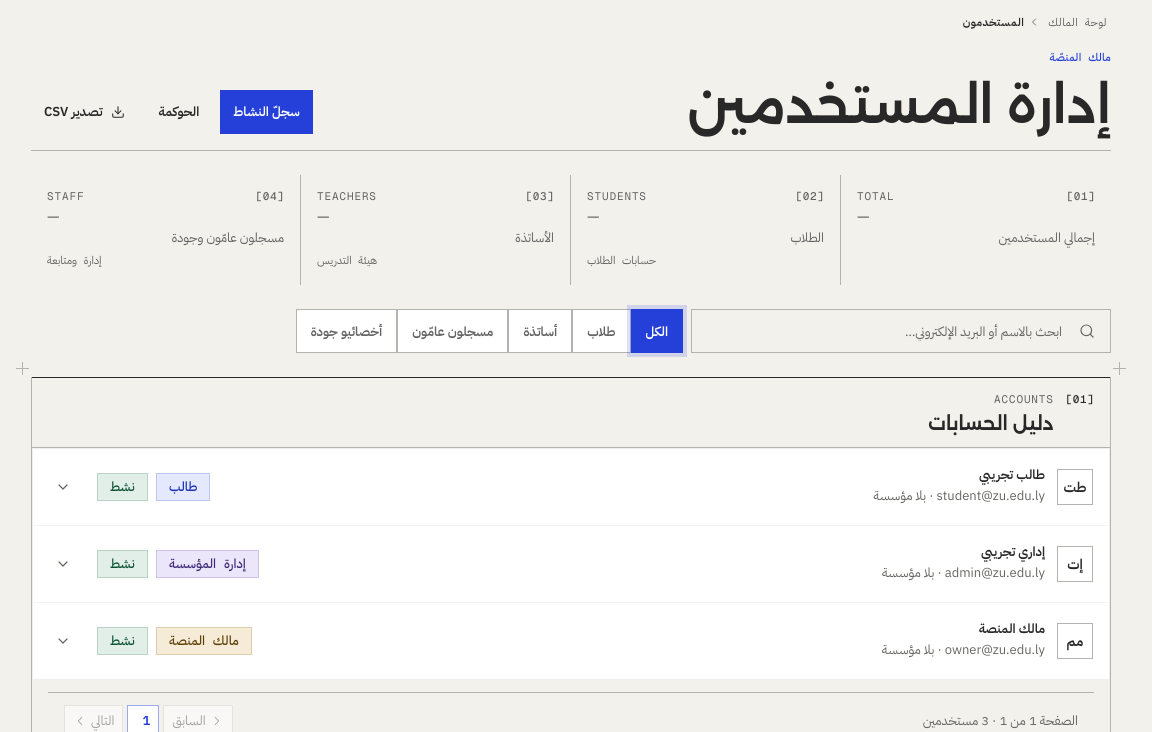
Test: OwnerUsersPage — role picker (r154e) › renders an OWNER row as read-only text (no select — owner role is not changeable here)
Click the button named "إجراءات مالك المنصة" at (63, 641), box [41,619,85,663]
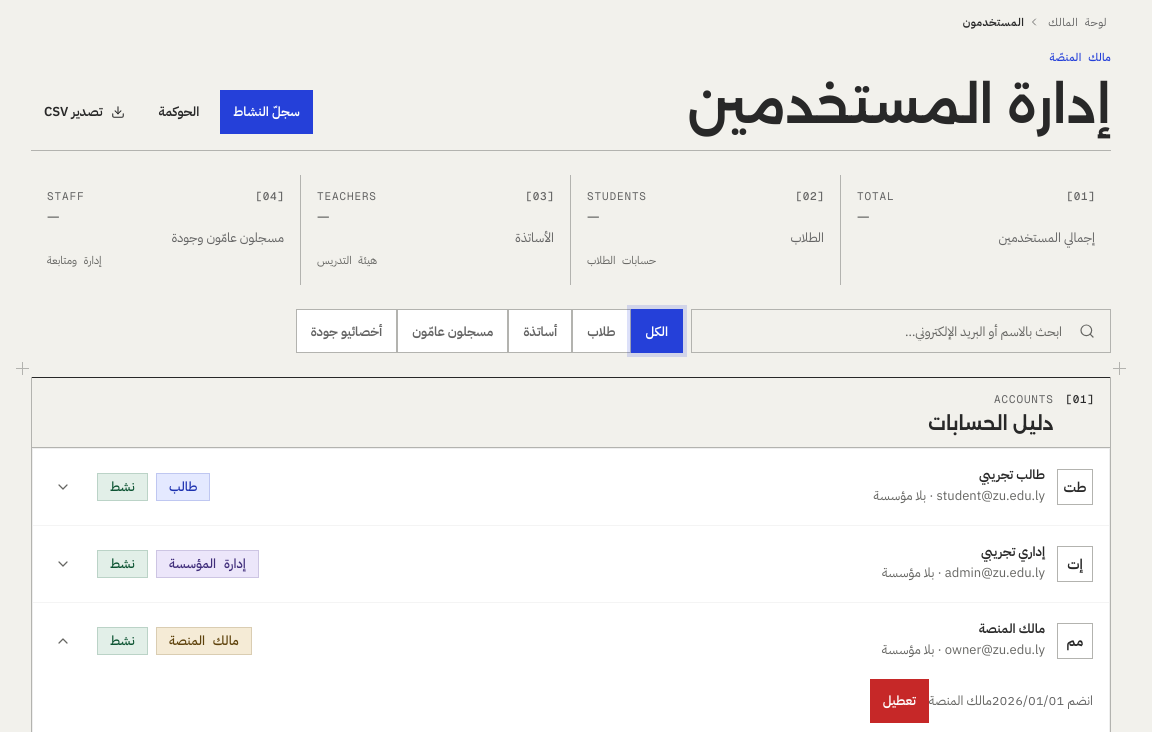
Click the button named "إجراءات طالب تجريبي" at (63, 487), box [41,465,85,509]
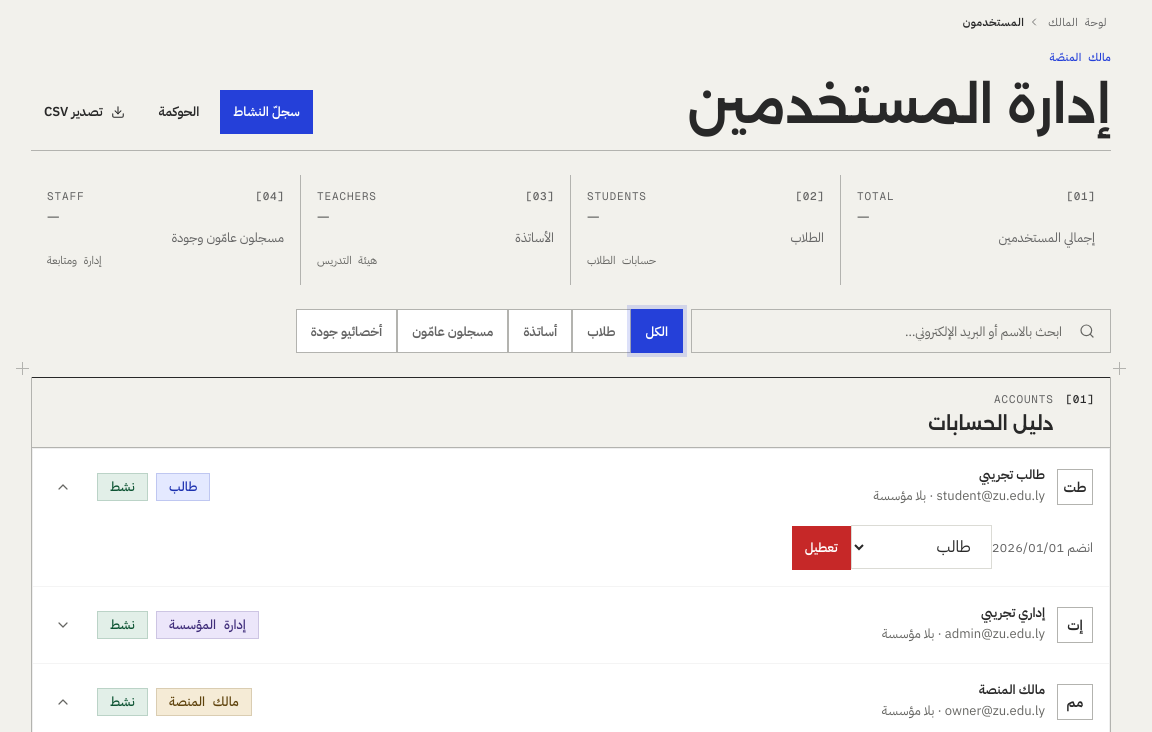
Click the button named "إجراءات إداري تجريبي" at (63, 625), box [41,603,85,647]
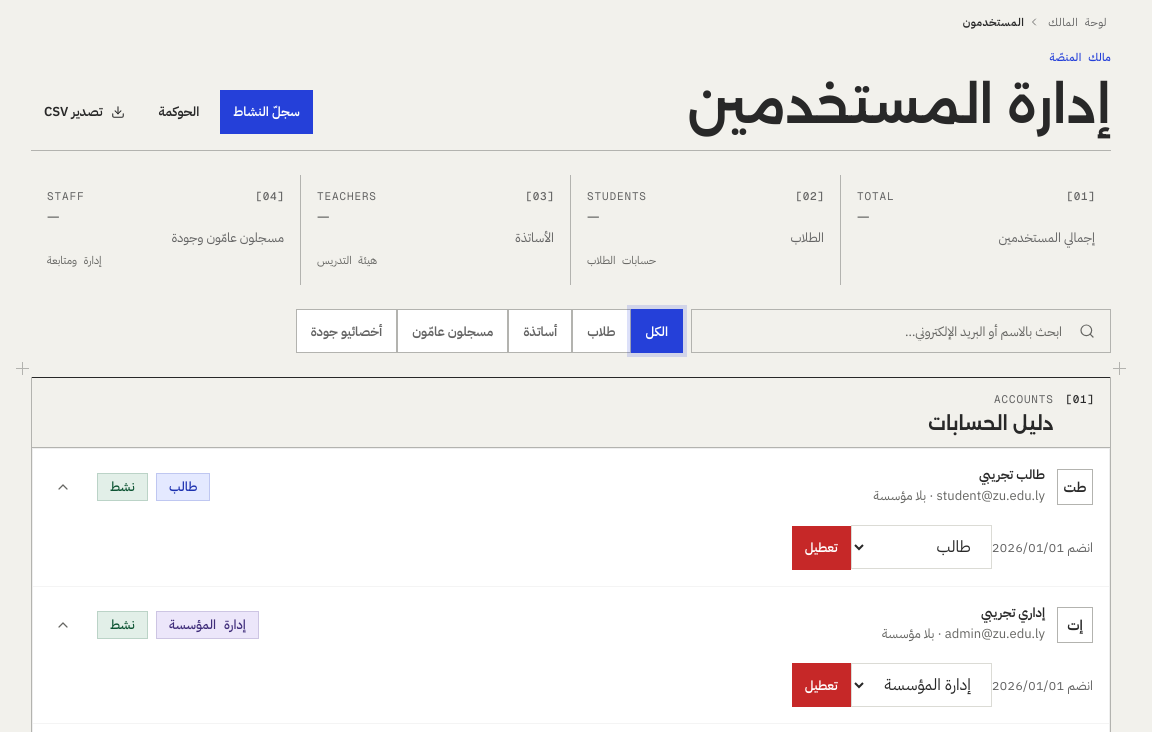
expect the dropdown named "دور طالب تجريبي" is shown: met, box [851,525,992,569]
expect the dropdown named "دور إداري تجريبي" is shown: met, box [851,663,992,707]
